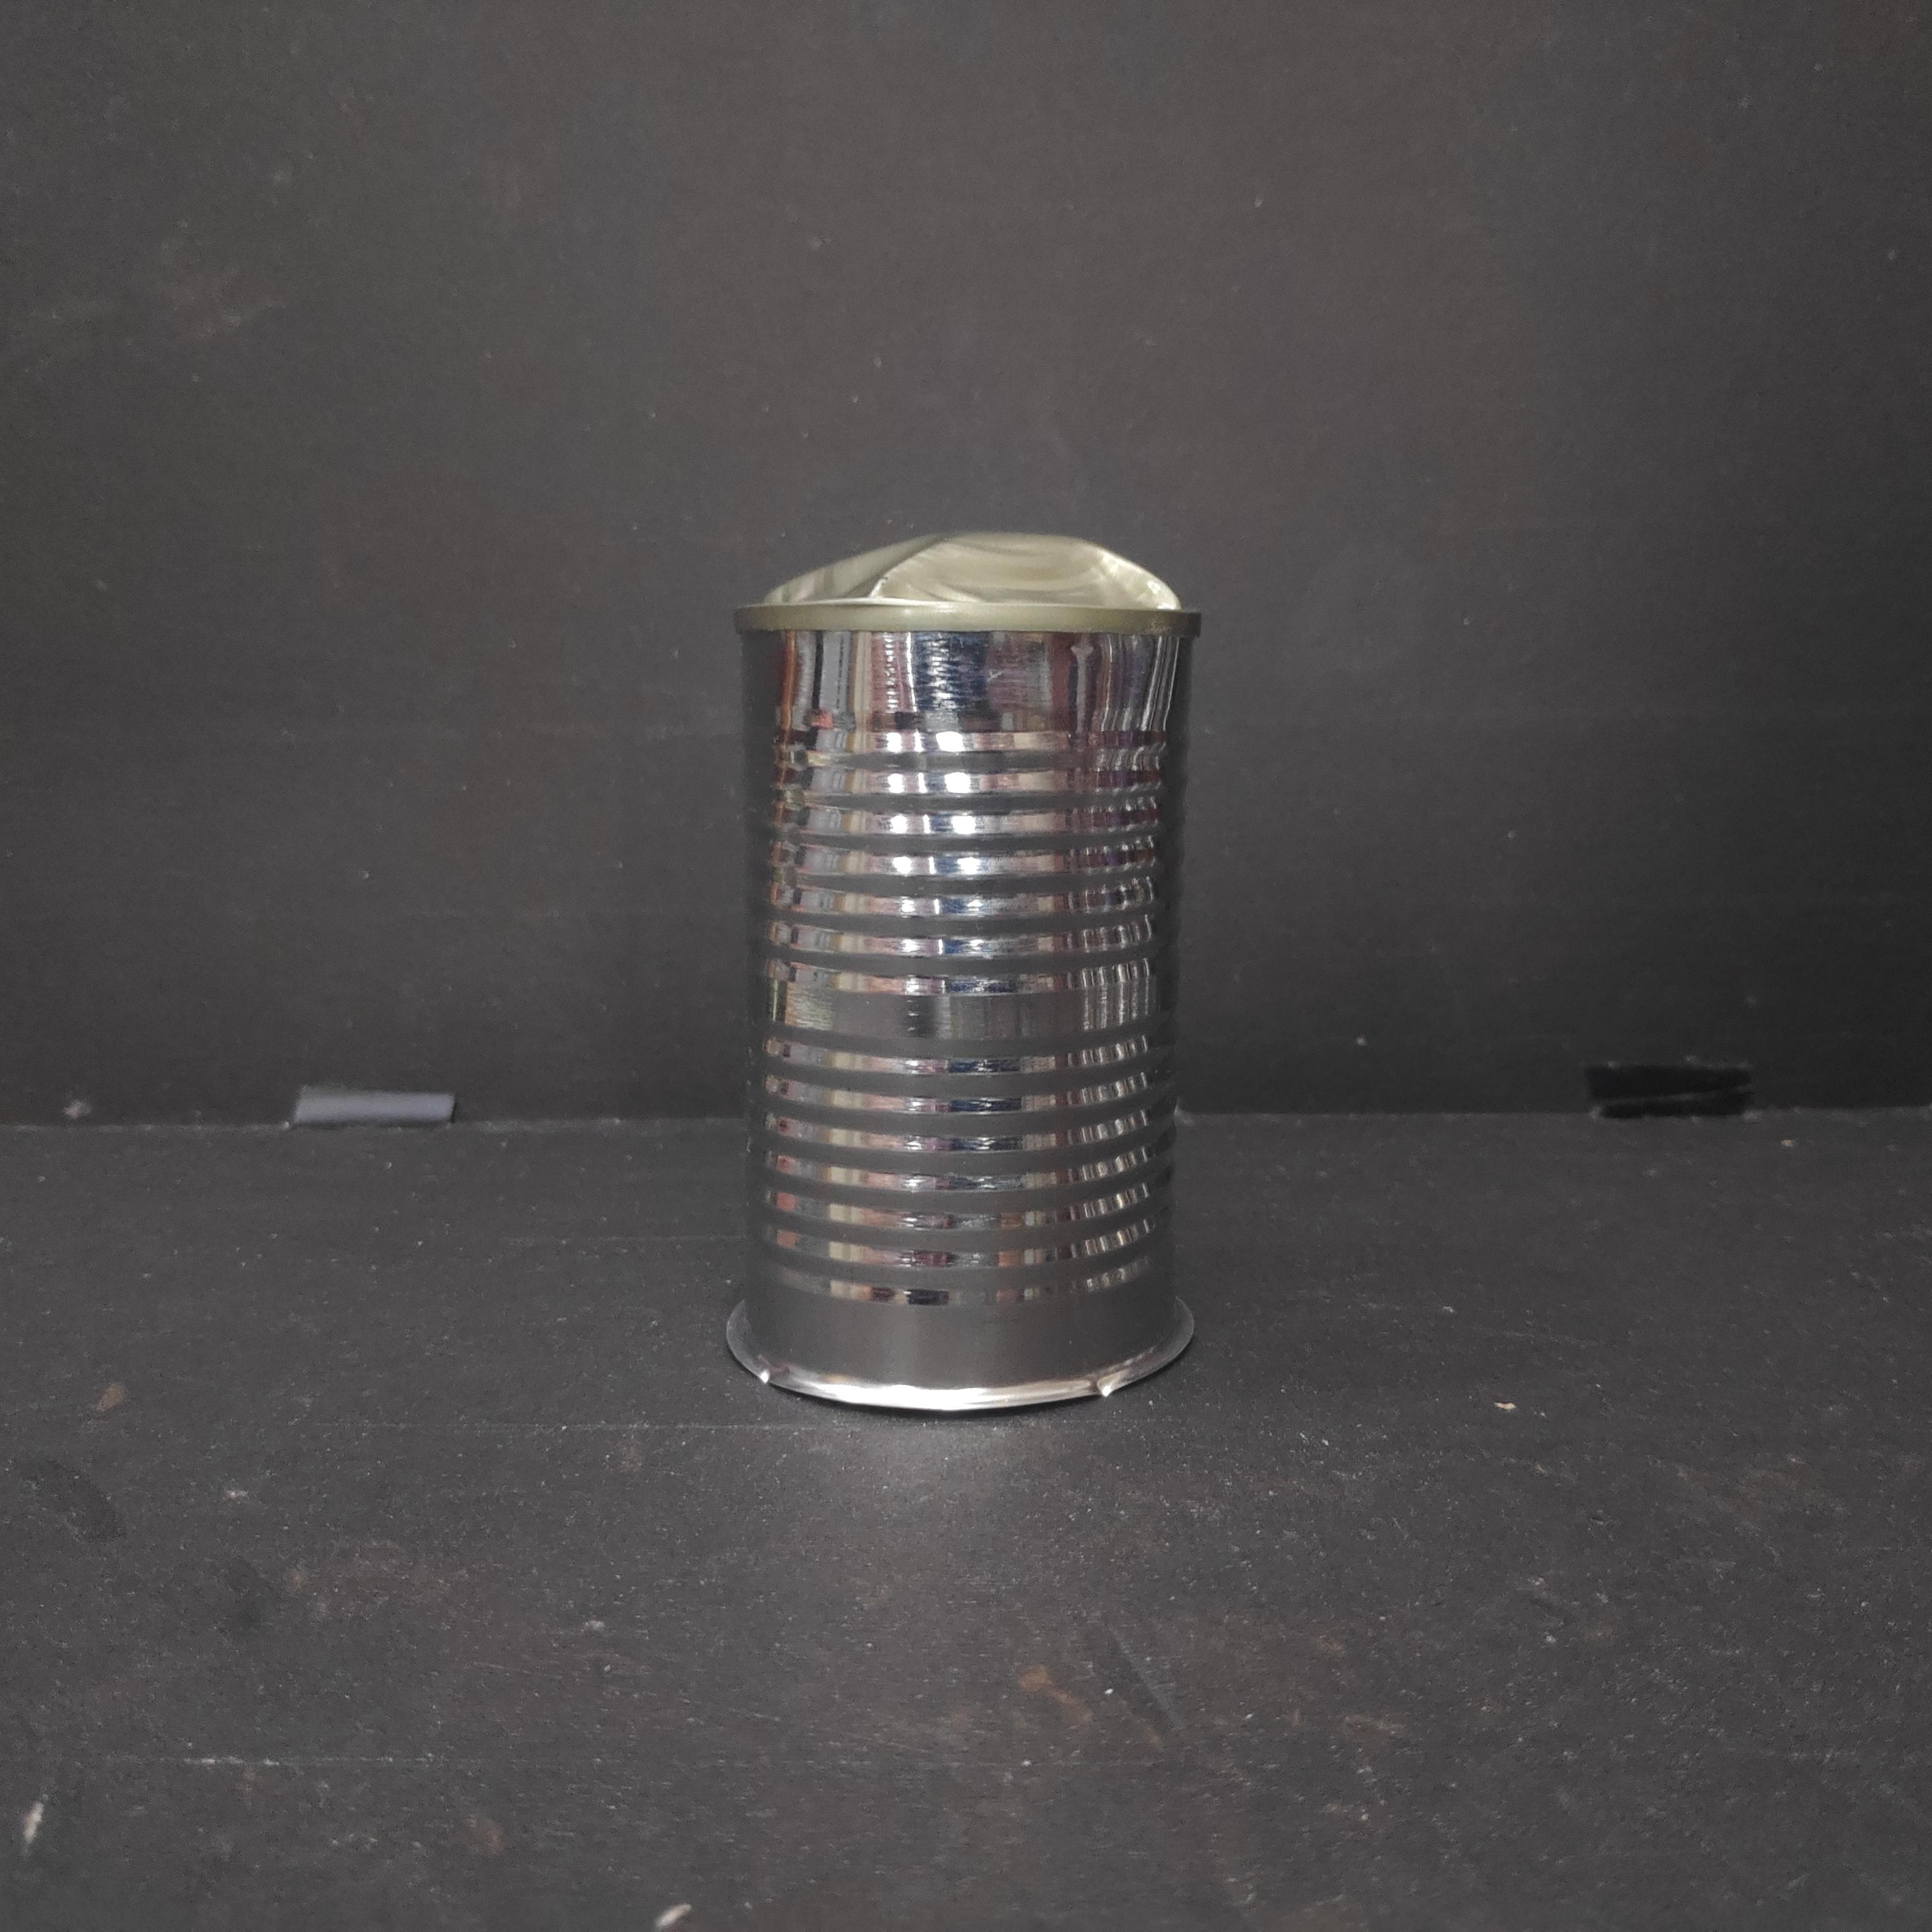Critical Defect: (724, 524, 1207, 1410)
